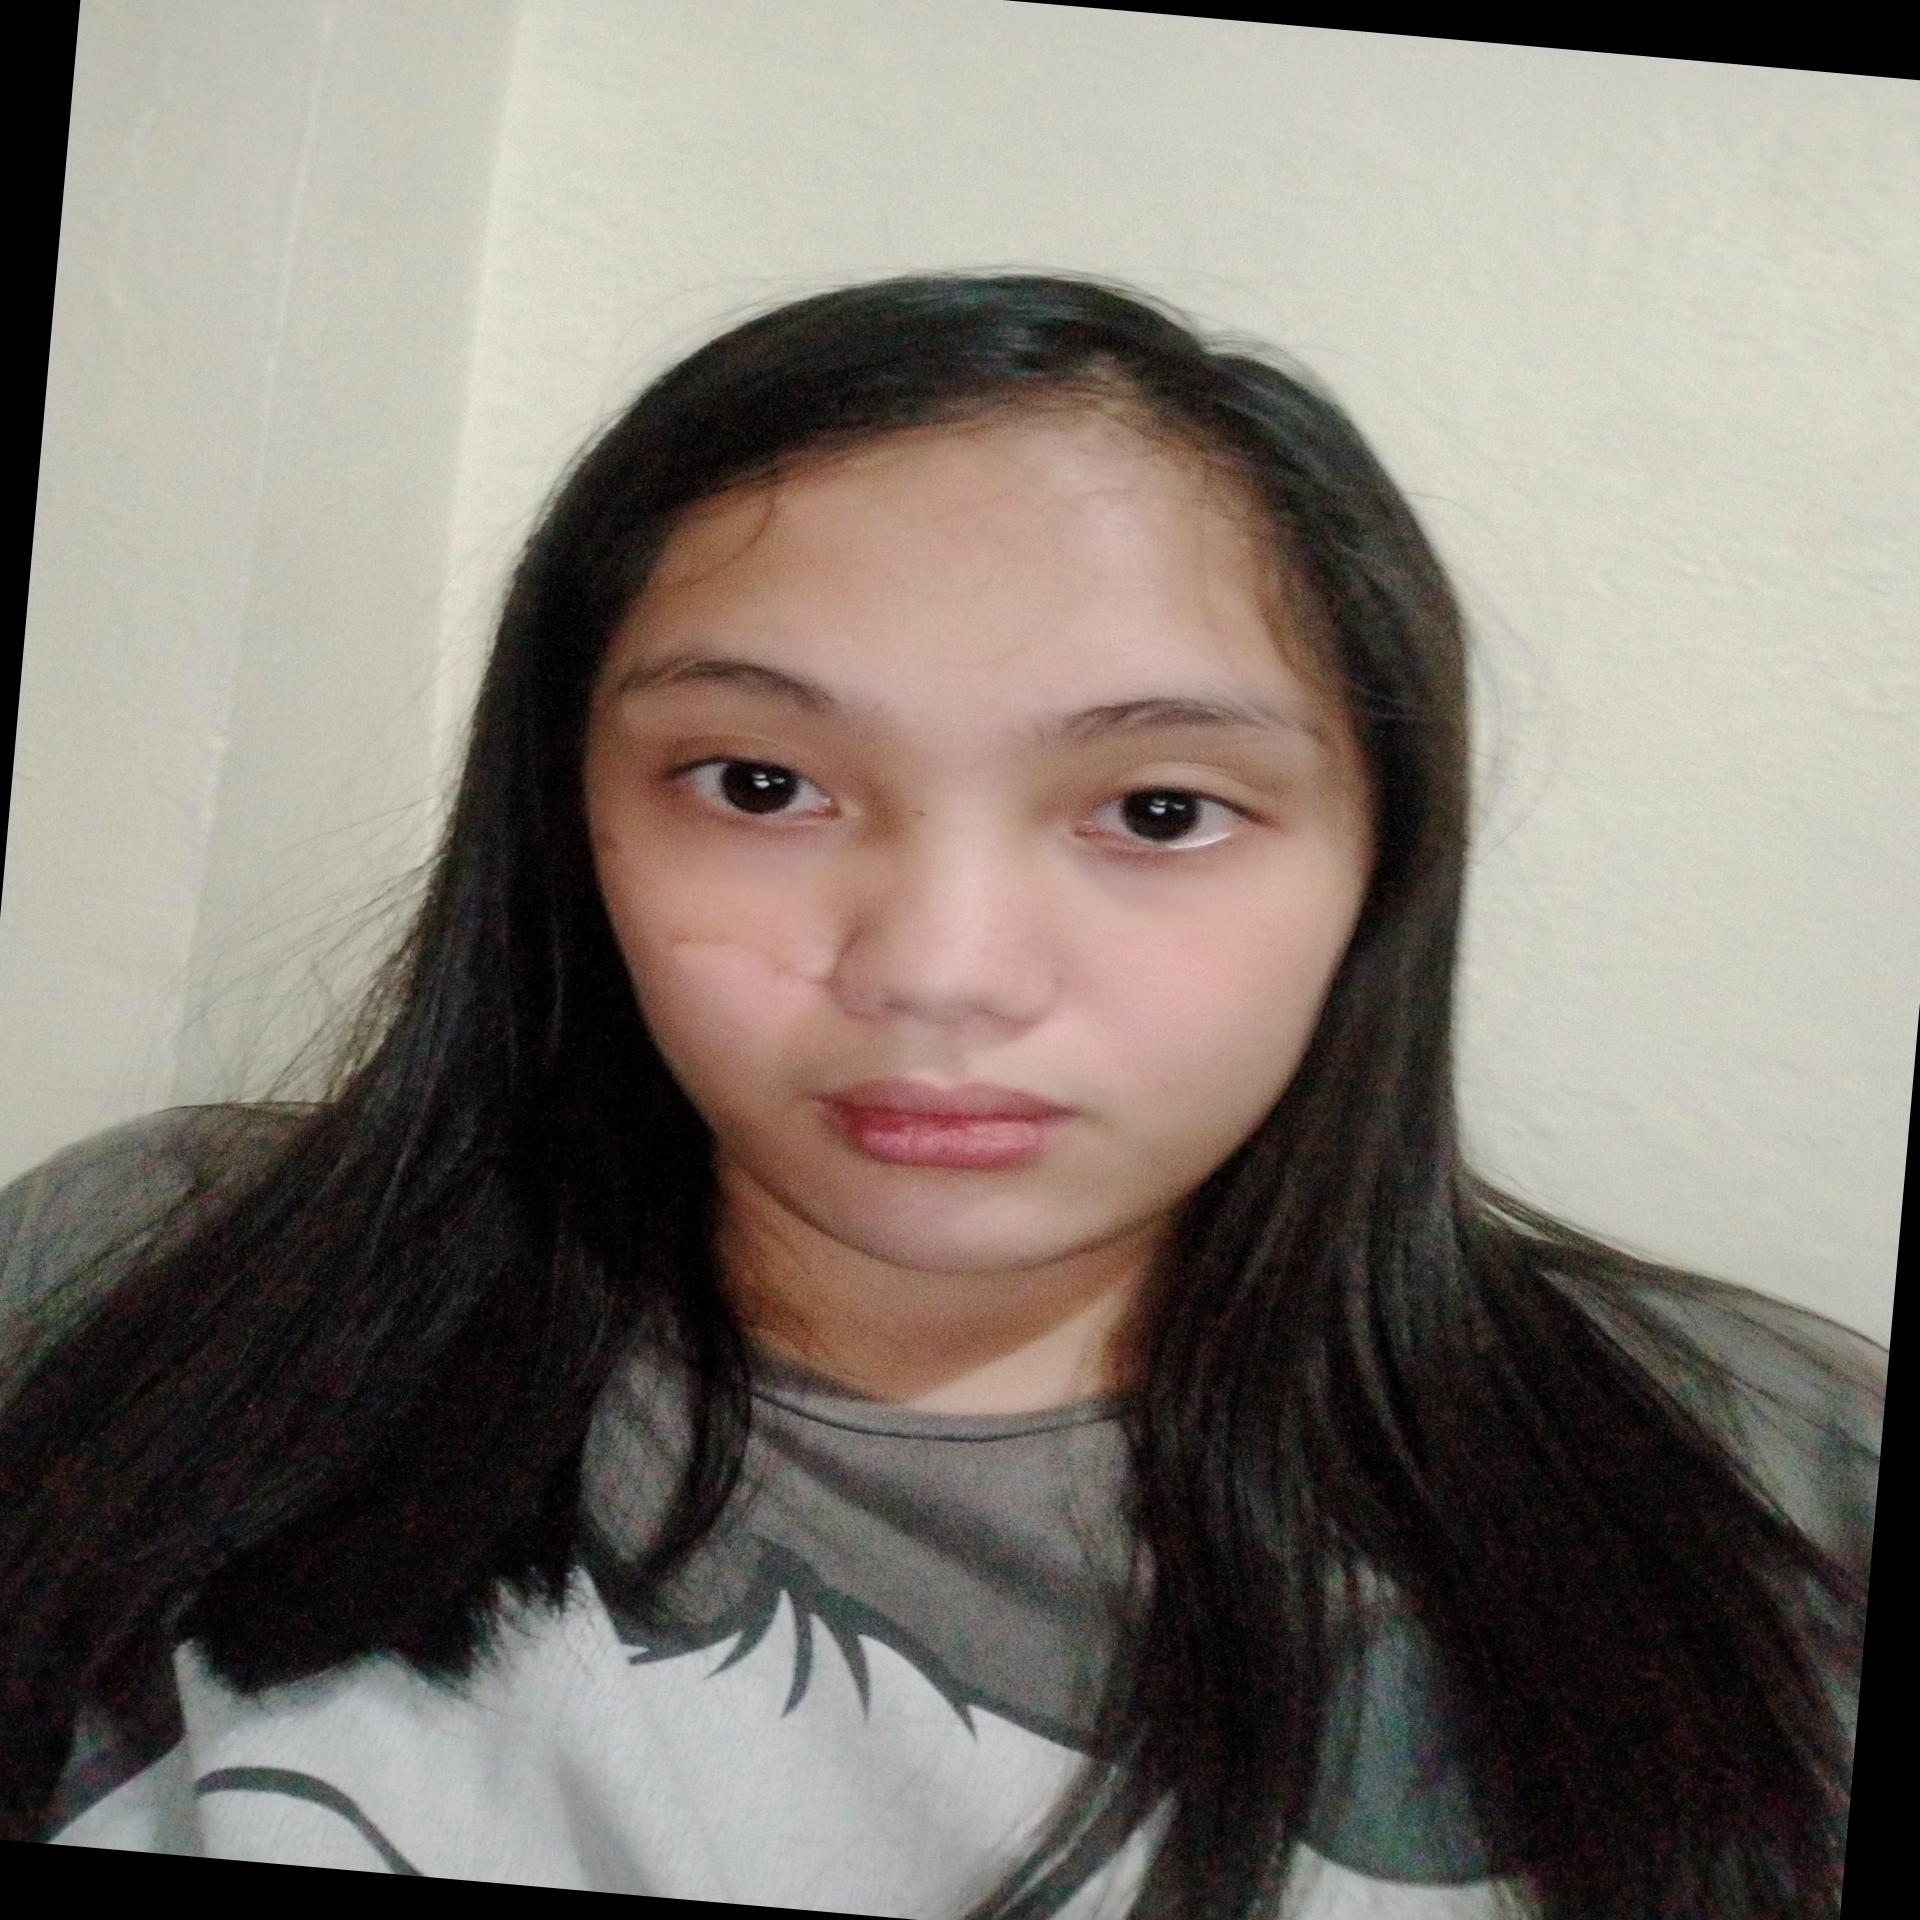Acne: (594, 819, 626, 856)
